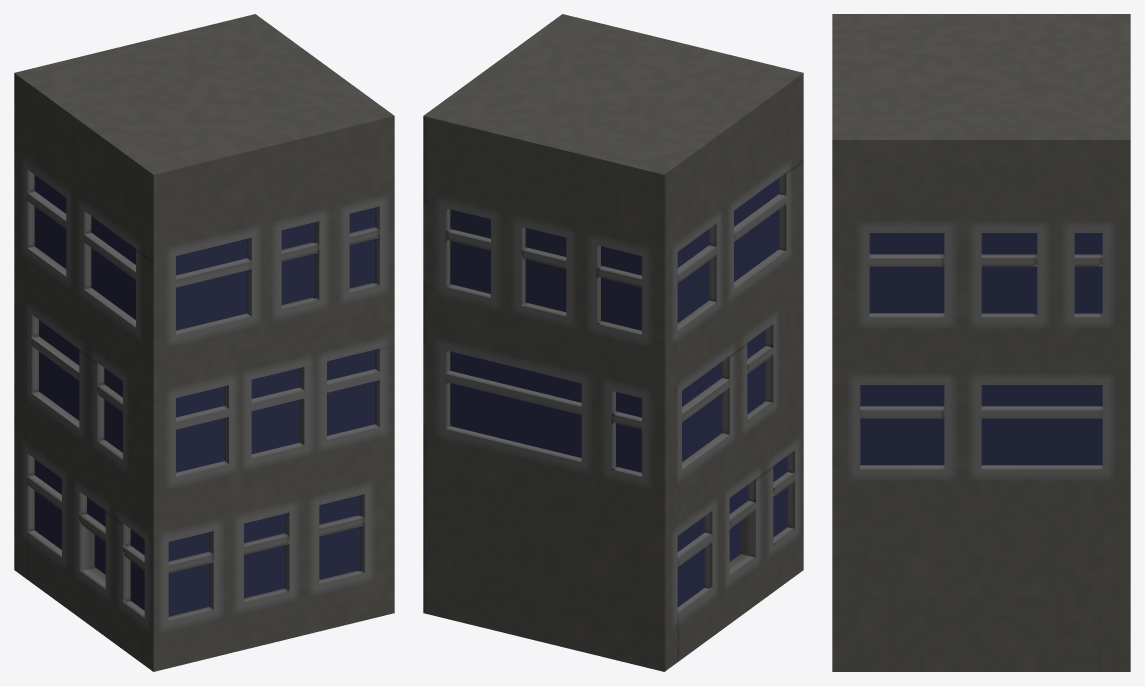
File: budynek_uni_3.dae
3 renders of one model, left to right at view 1: azimuth 30°, elevation 25°; view 2: azimuth 150°, elevation 25°; view 3: azimuth 270°, elevation 25°, orthographic. The views are drawn at different scales.
Visible parts, largest first — view 1: Content; view 2: Content; view 3: Content.
Part boxes in pixels (<box>): Content: <box>14,14,394,671</box>; Content: <box>423,14,803,671</box>; Content: <box>832,14,1130,671</box>.
Size of the model in its own units: 32 by 63 by 32.
Materials: 1 (1 with a texture image).
